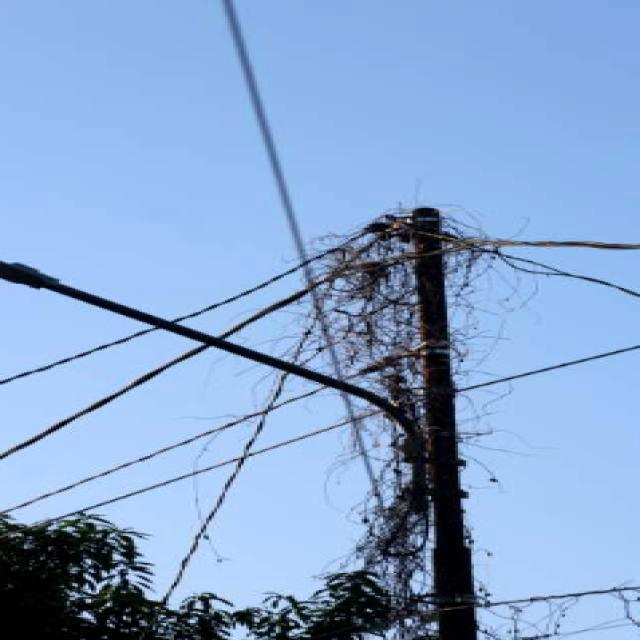critical vegetation: (348, 402, 474, 555), (318, 220, 465, 333)
